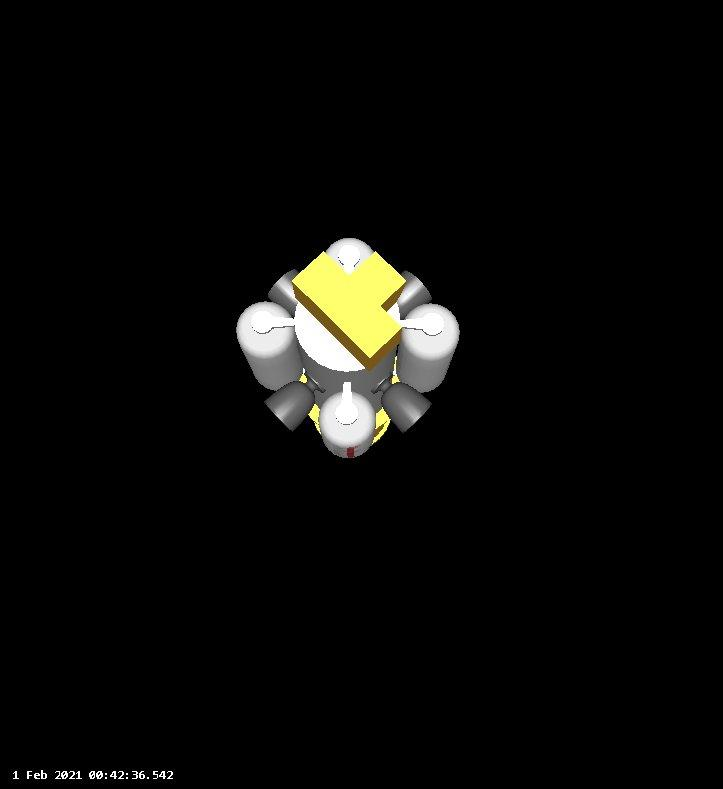body: (233, 238, 461, 454)
thruster: (368, 373, 437, 436), (262, 374, 325, 433), (385, 266, 437, 320), (266, 267, 308, 320)
